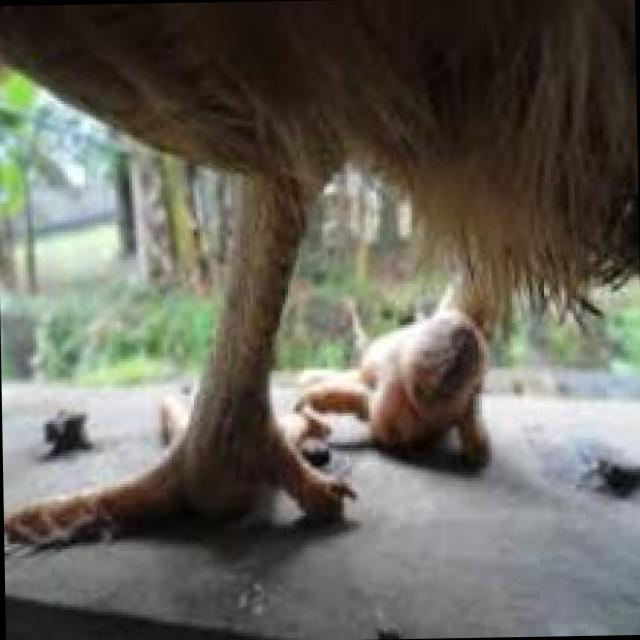Bumble foot: (340, 284, 524, 445)
